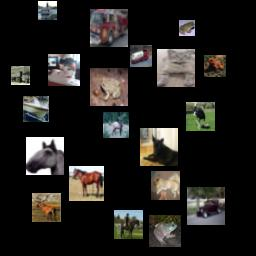automobile: (187, 187, 225, 225)
bird: (186, 102, 215, 131)
cat: (157, 49, 195, 87), (48, 54, 80, 86)
deer: (32, 193, 61, 222), (103, 112, 129, 138)
dog: (140, 128, 178, 166), (151, 171, 180, 200)
frog: (90, 68, 128, 106), (149, 215, 181, 247), (204, 55, 226, 77), (179, 20, 195, 36)
ship: (23, 96, 49, 122), (38, 1, 57, 20)
truck: (90, 9, 128, 47), (130, 45, 152, 67), (11, 66, 30, 85)
